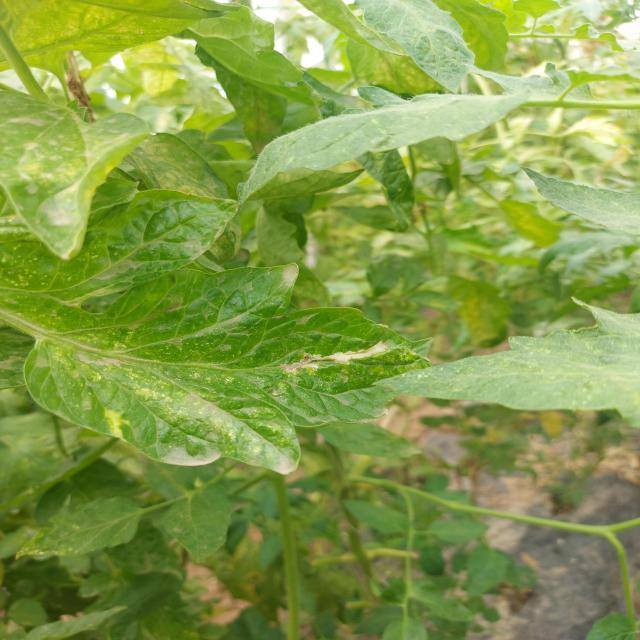Tuta absoluta: (298, 338, 401, 367)
